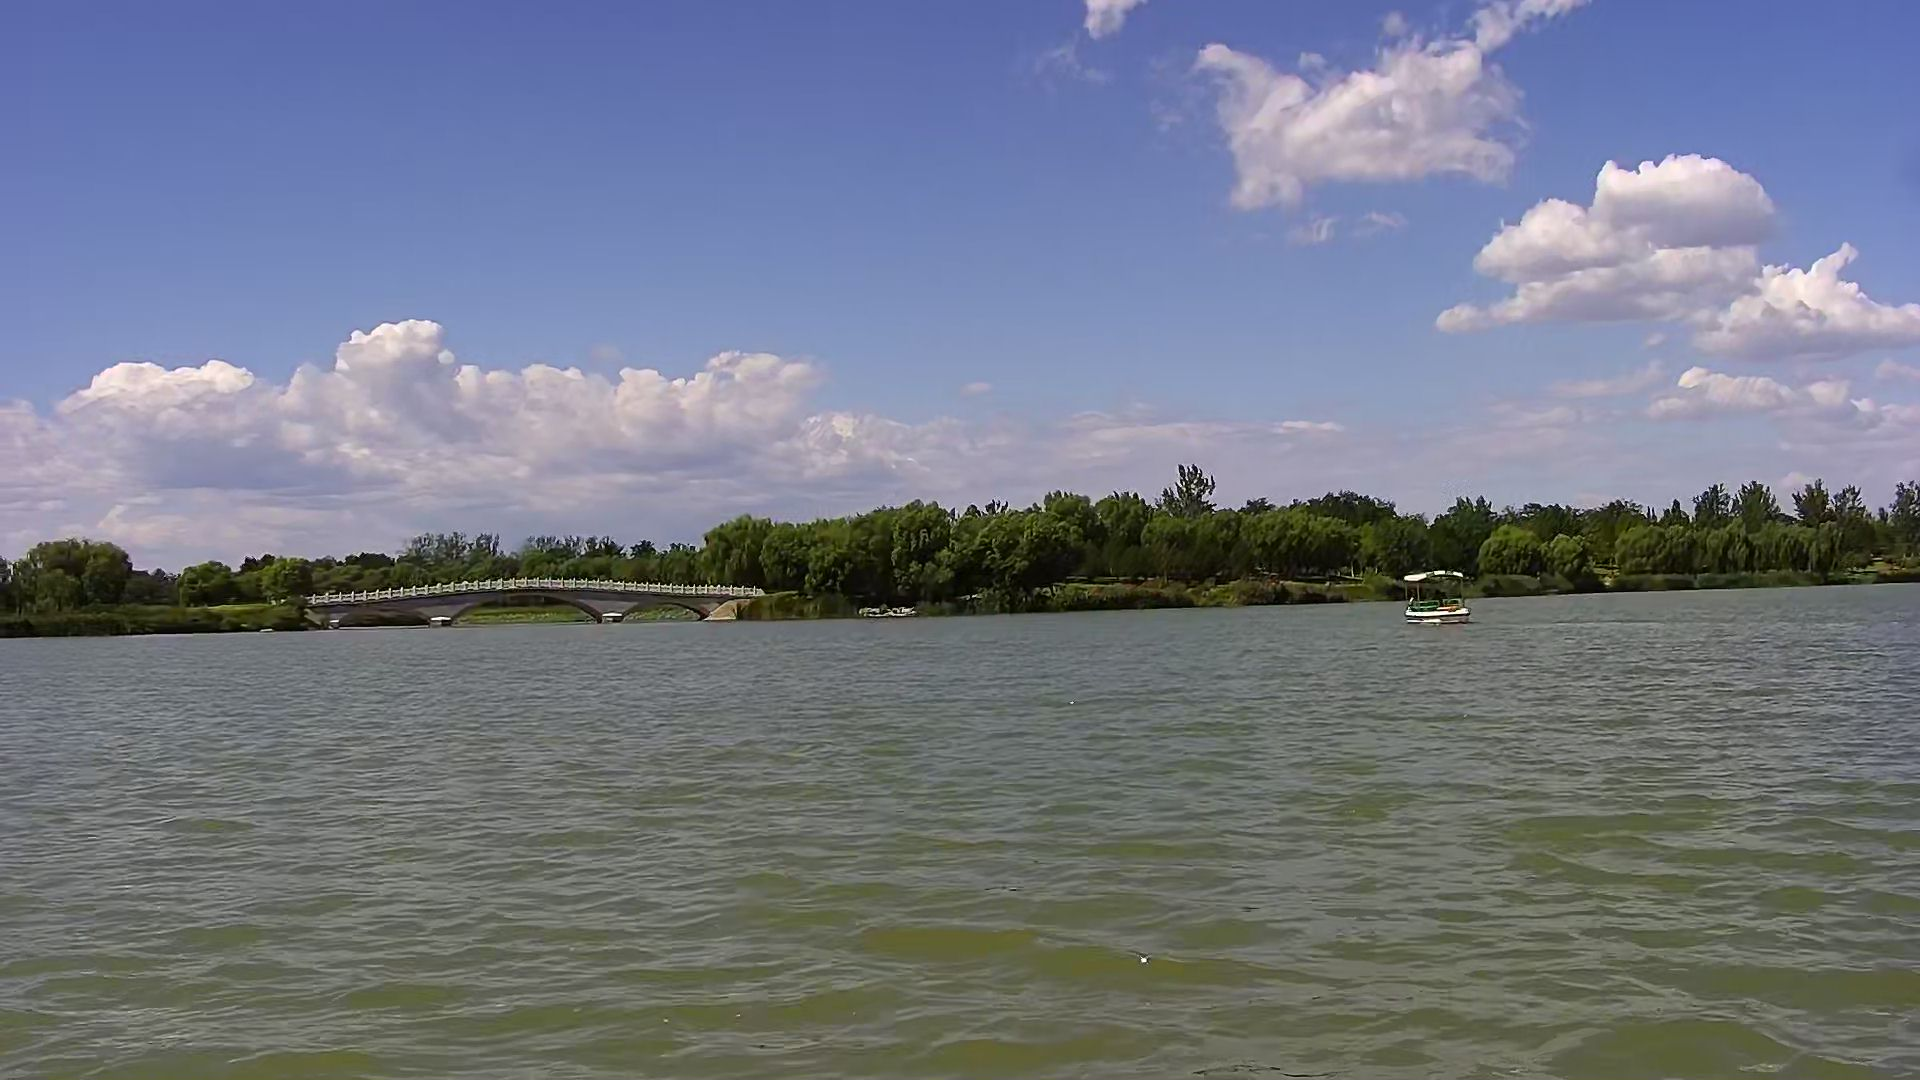boat: (1399, 564, 1474, 626)
bridge: (332, 576, 738, 626)
